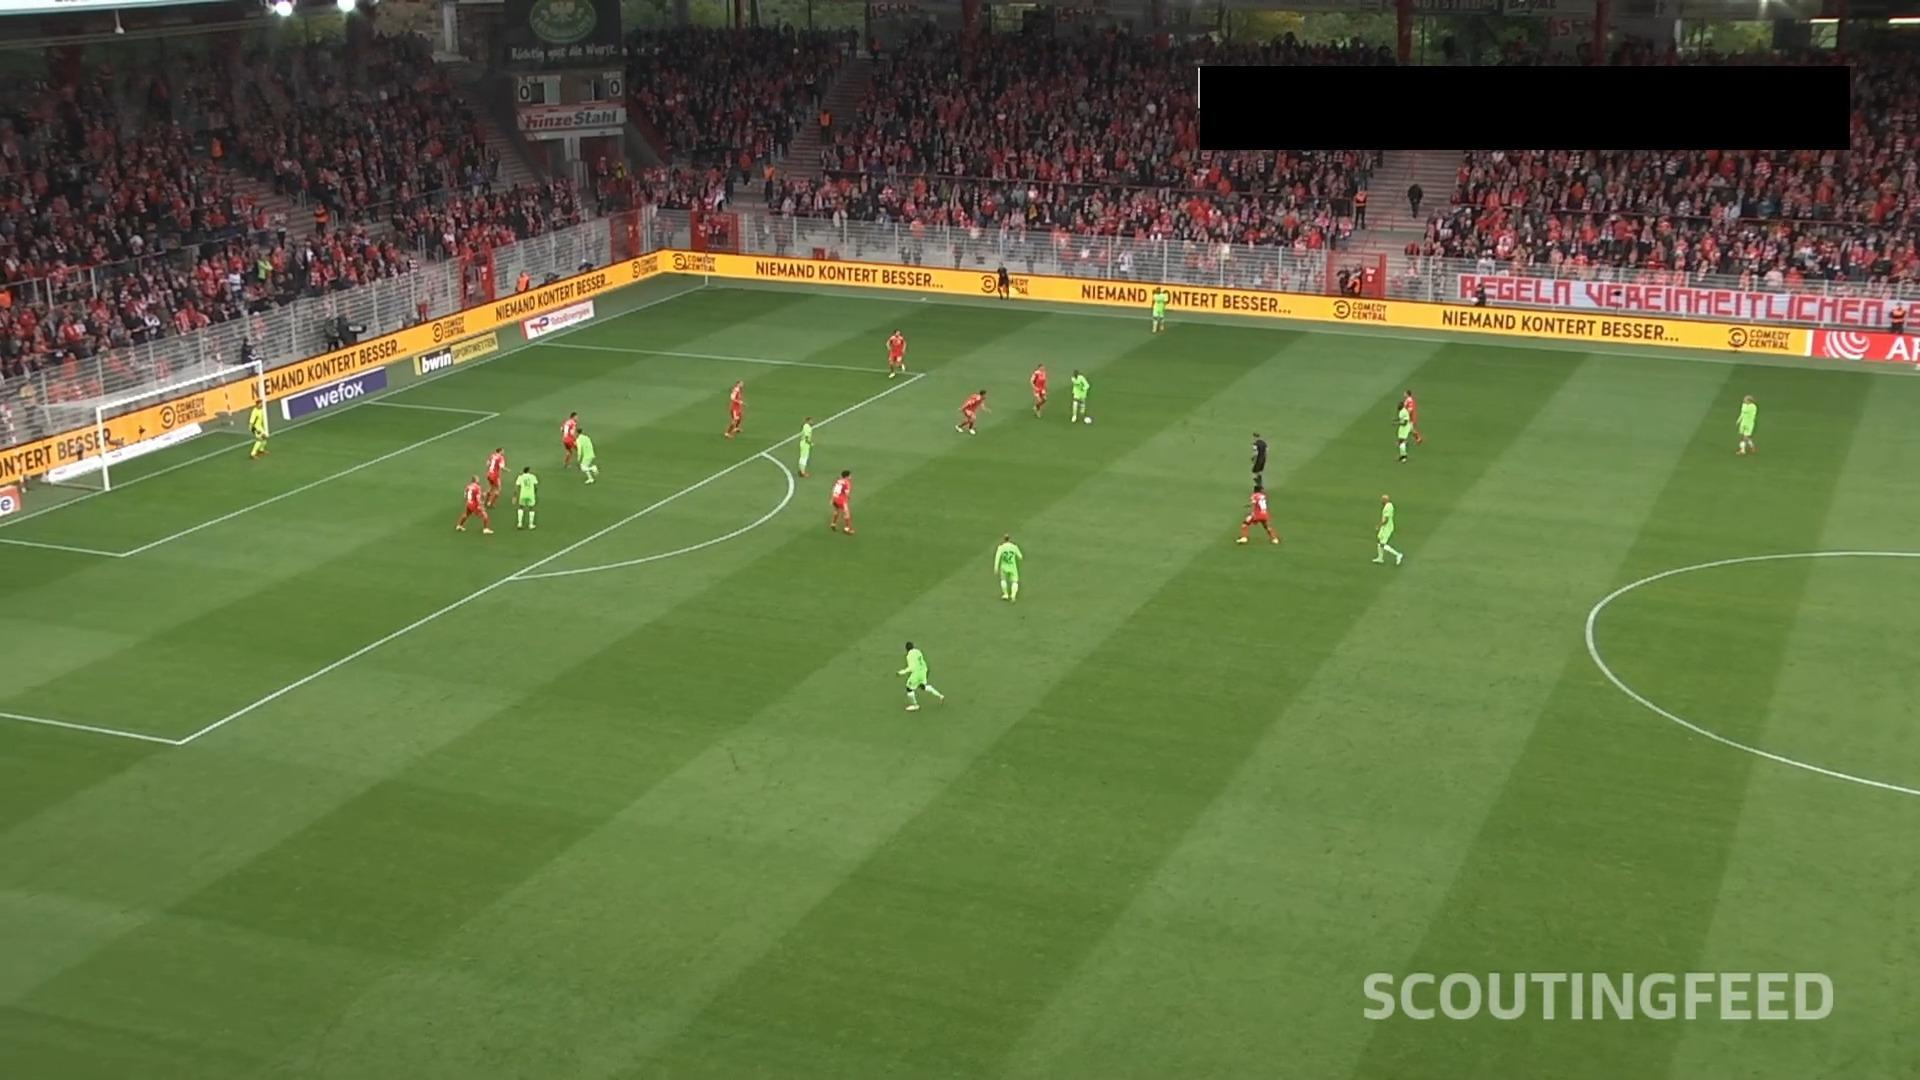ball: (1083, 415, 1093, 426)
